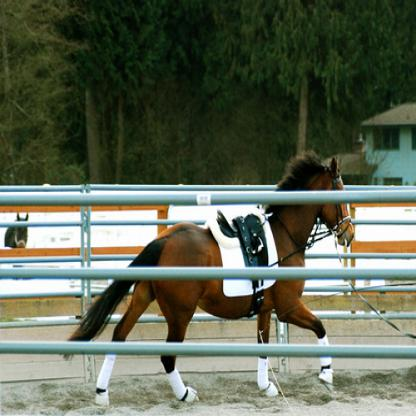horse: (64, 154, 354, 408), (5, 212, 29, 249)
